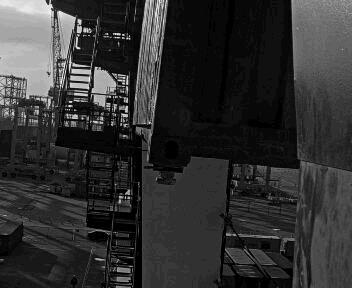twist_lock_1: (156, 139, 177, 160)
